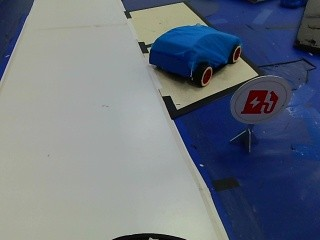battery: (243, 78, 286, 129)
car: (148, 25, 239, 83)
